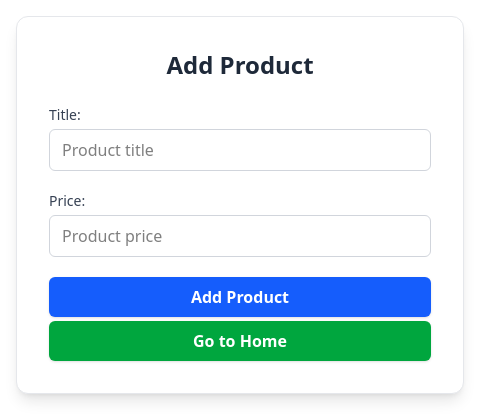
Scenario: PostProduct Component › shows submitting state
Step 1. Type "Loading Product" into the field labelled "Title:" → (240, 150), box left=49, top=129, right=431, bottom=171
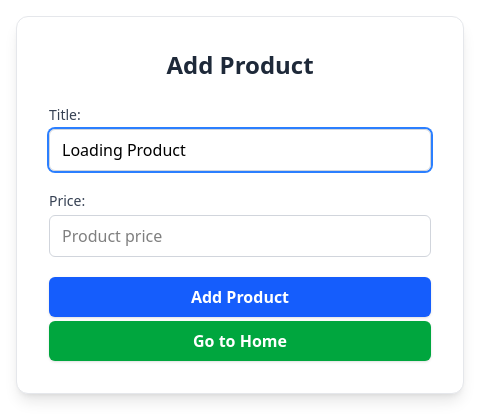
Step 2. Type "10" into the number field labelled "Price:" → (240, 236), box left=49, top=215, right=431, bottom=257
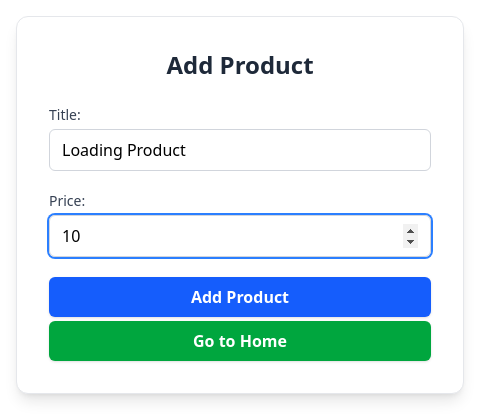
Step 3. Click the button "Add Product" → (240, 297), box left=49, top=277, right=431, bottom=317
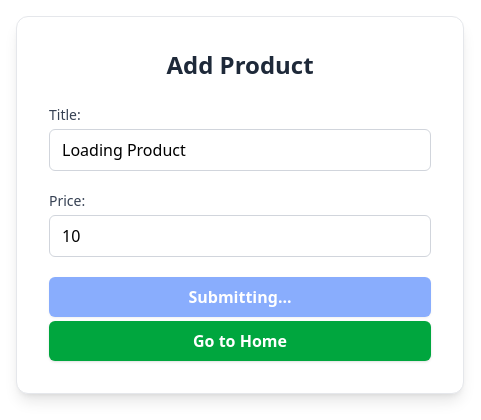
Check: the button "Submitting..." is disabled, box left=49, top=277, right=431, bottom=317
